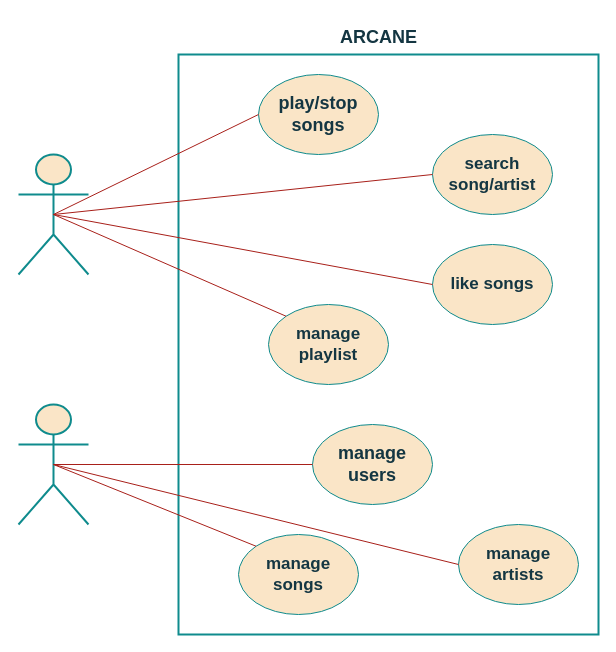
Image size: 616x652. Some labels were removed from this diagram. The shapes that lost their labels are listed below. From the top down, each one's centre as x and y in pixels, then its label:
point 53,214: User
point 53,464: Admin
